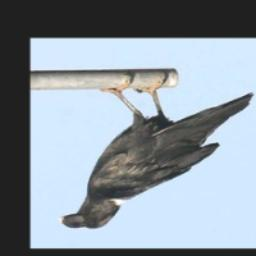Crow: (59, 72, 254, 232)
